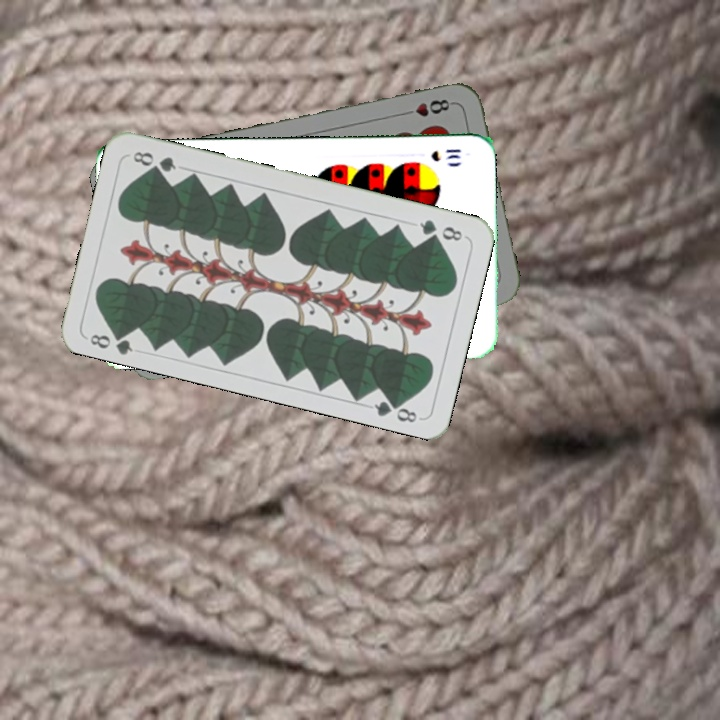G8: (86, 325, 136, 357), (415, 215, 465, 244)
H8: (398, 95, 456, 119)
S10: (427, 145, 464, 164)
